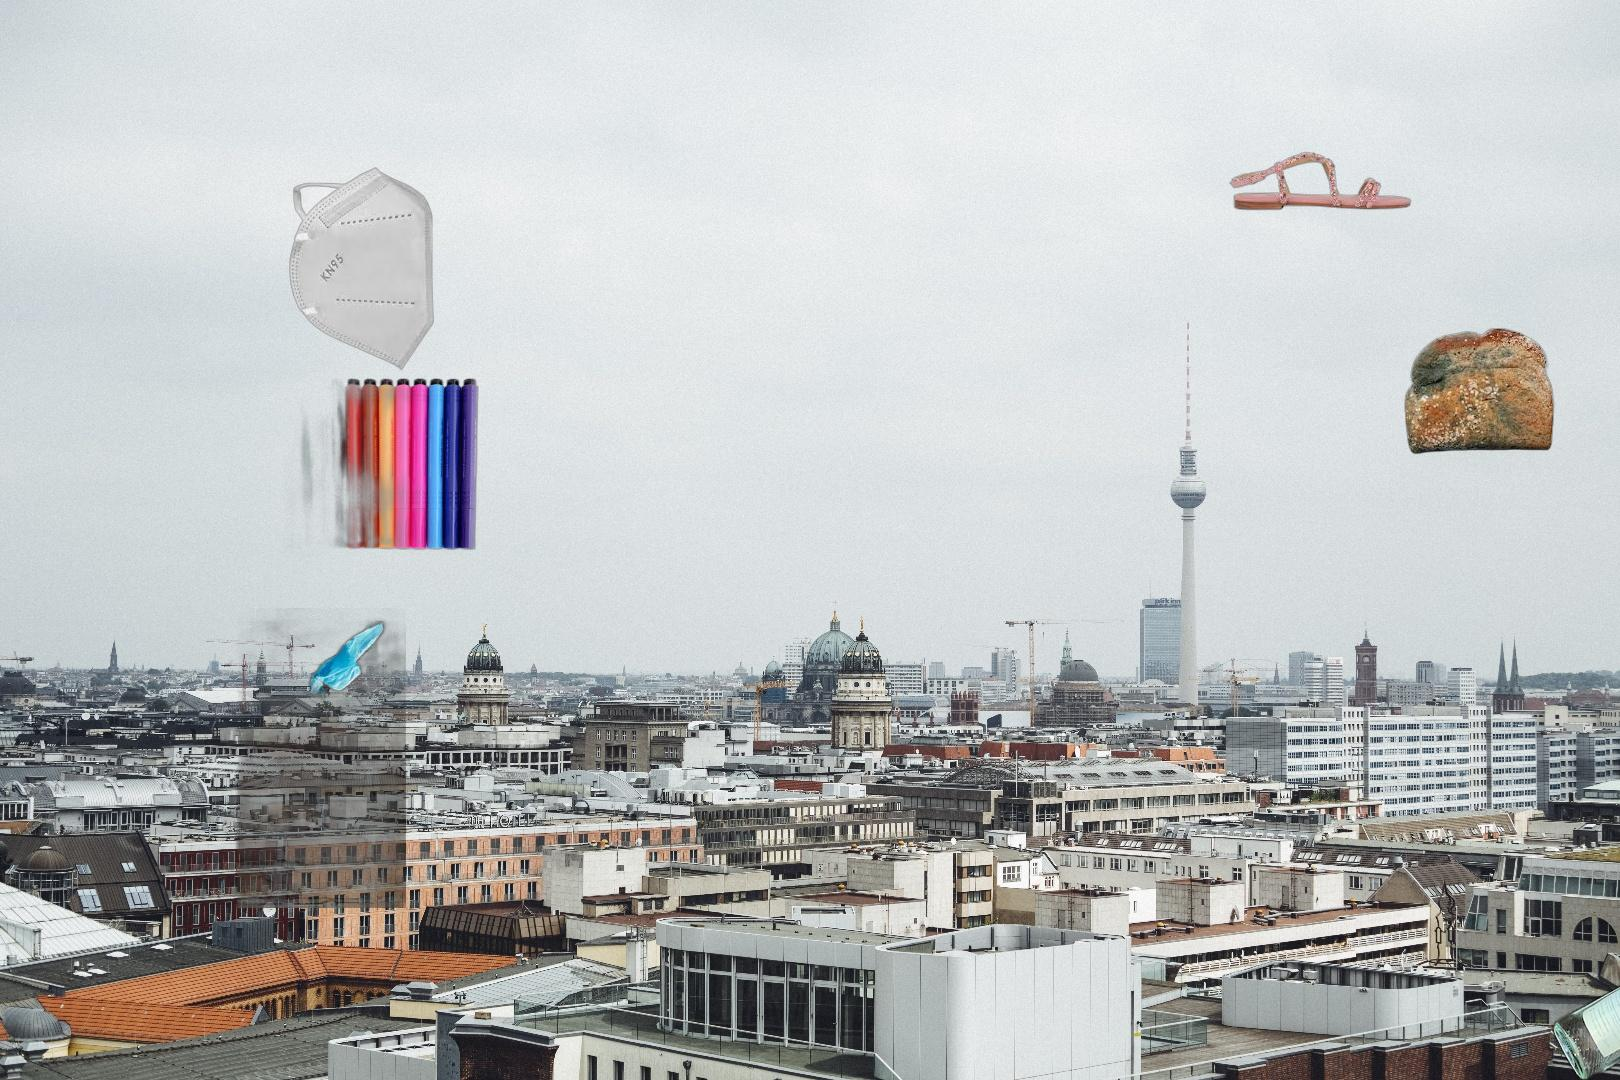biological: (1402, 325, 1557, 456)
glass: (1548, 928, 1620, 1080)
penholder: (278, 376, 479, 560), (1534, 968, 1620, 1080)
plastic-bag: (111, 607, 406, 908)
shoes: (1227, 149, 1414, 213)
trash: (215, 166, 436, 381)
